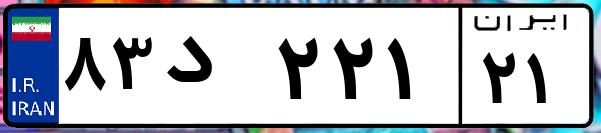1: (385, 28, 445, 110), (525, 38, 570, 115)
2: (270, 28, 330, 110), (330, 28, 385, 110), (475, 38, 525, 113)
3: (110, 28, 158, 98)
8: (57, 26, 110, 100)
د: (158, 20, 270, 120)
